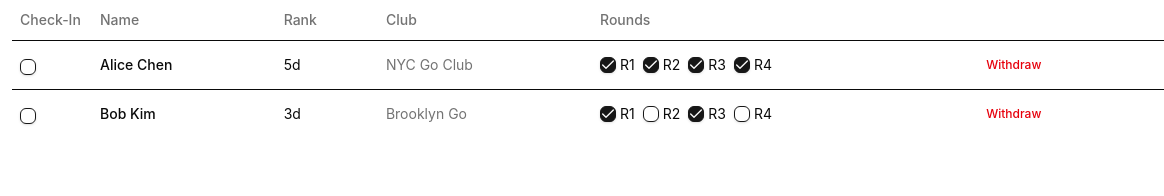
Test: RegistrationTable › withdraw › discard restores withdrawn player
Withdraw Alice
Click the button "Withdraw" in the row of "Alice Chen": (1014, 64) x1=974 y1=48 x2=1053 y2=80
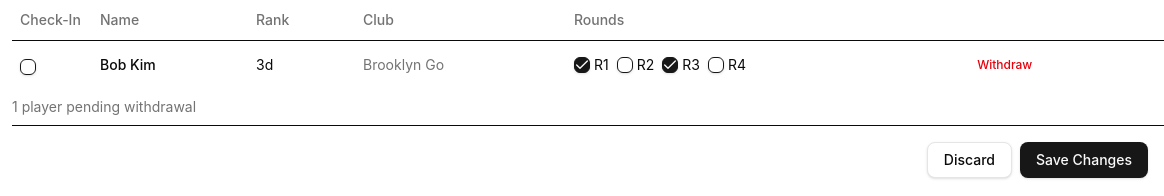
Expected: the text "Alice Chen" is gone
Click the button "Discard": (969, 160) x1=927 y1=142 x2=1012 y2=178
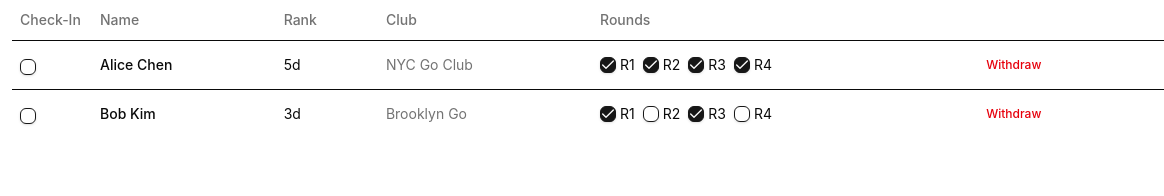
Expected: the text "Alice Chen" is shown, x1=92 y1=40 x2=276 y2=89
Expected: the button "Save Changes" is gone
